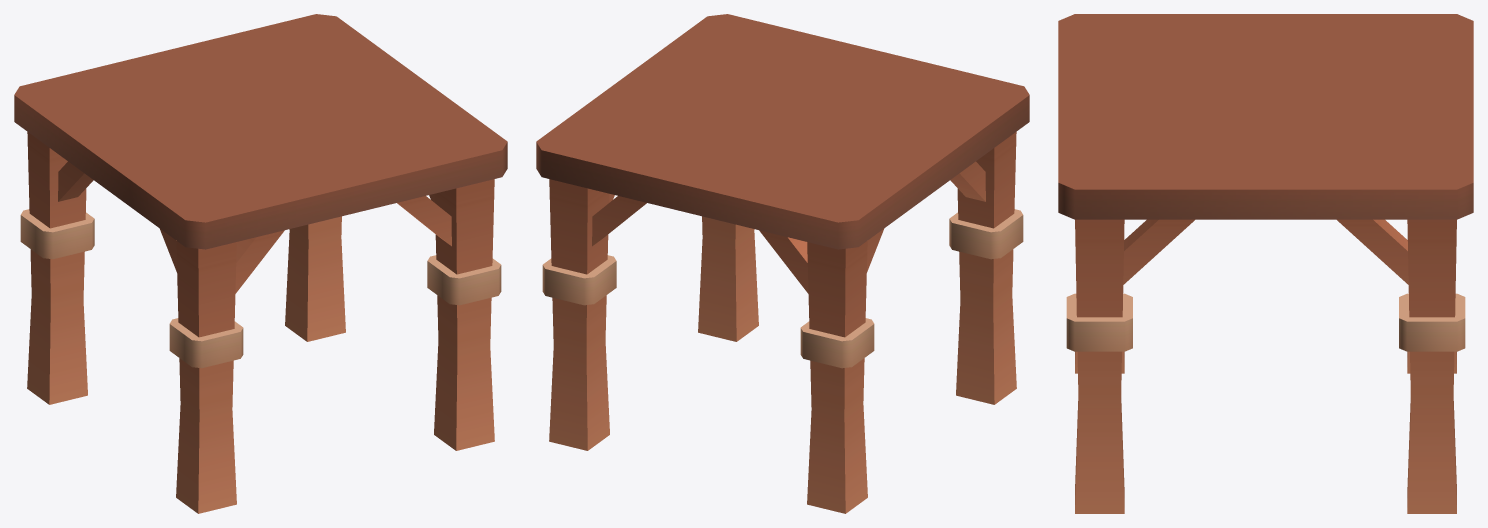
The model's file is kenney-pirate-structure.glb.
3 views of the same model, side by side, from view 1: azimuth 30°, elevation 25°; view 2: azimuth 150°, elevation 25°; view 3: azimuth 270°, elevation 25° (orthographic). The views are drawn at different scales.
Parts seen in each view (by area): view 1: structure; view 2: structure; view 3: structure.
Part boxes in pixels (x1,y1,x2,y2): structure: [14, 14, 507, 513]; structure: [536, 14, 1029, 513]; structure: [1058, 14, 1473, 513].
Size of the model in its own units: 2.5 by 2.2 by 2.5.
Materials: 1 (1 with a texture image).
